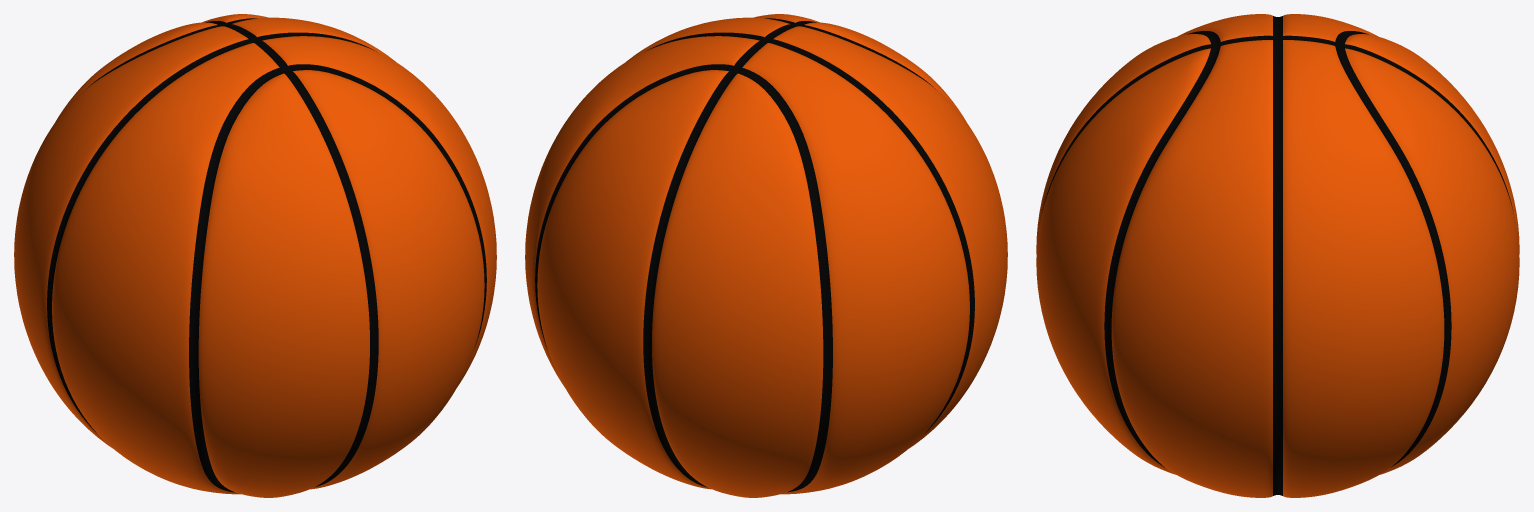
Rendered from basketball.fbx.
3 views of the same model, side by side, from view 1: azimuth 30°, elevation 25°; view 2: azimuth 150°, elevation 25°; view 3: azimuth 270°, elevation 25° (orthographic).
Visible parts, largest first — view 1: Cube; view 2: Cube; view 3: Cube.
Boxes of the visible parts, <box> form: Cube: <box>14,14,496,497</box>; Cube: <box>525,14,1007,497</box>; Cube: <box>1036,14,1519,497</box>.
Bounding box in the file's own units: 161 × 161 × 161.
